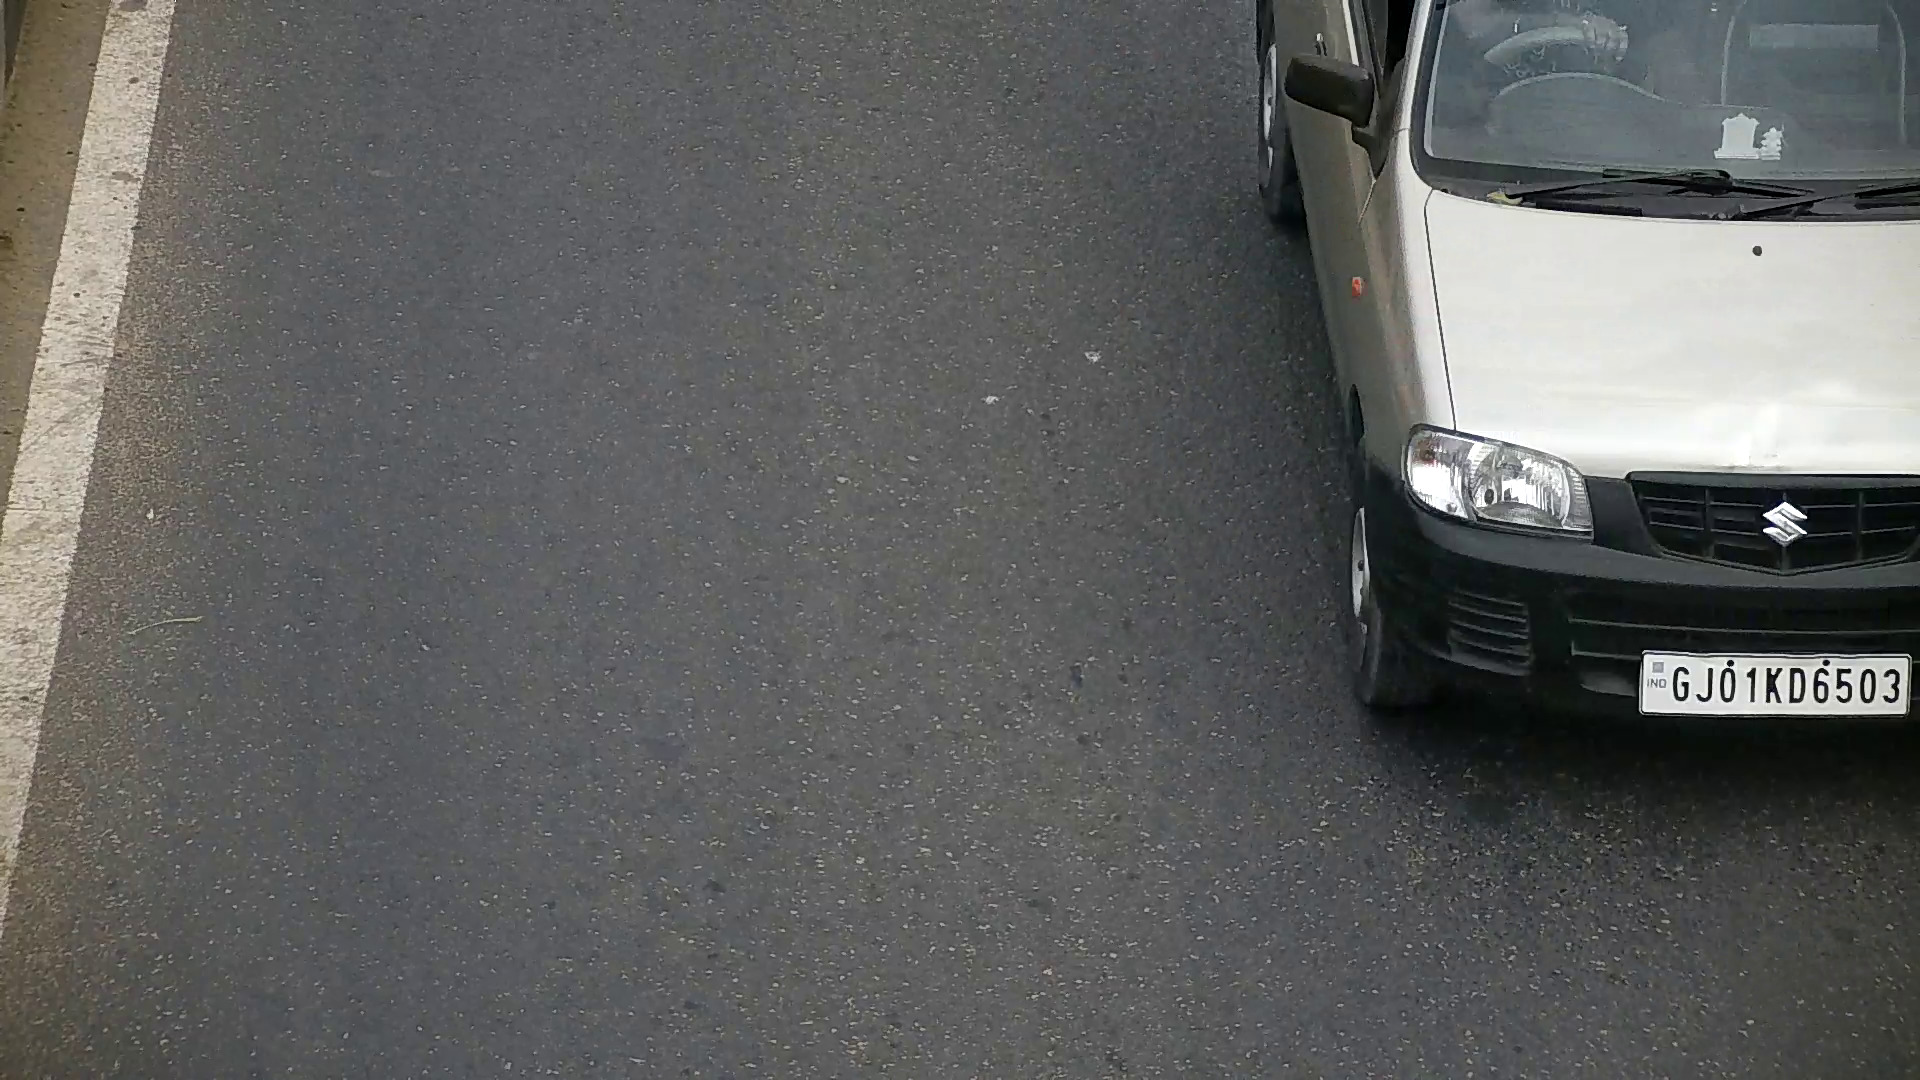numberplate: (1635, 648, 1916, 718)
